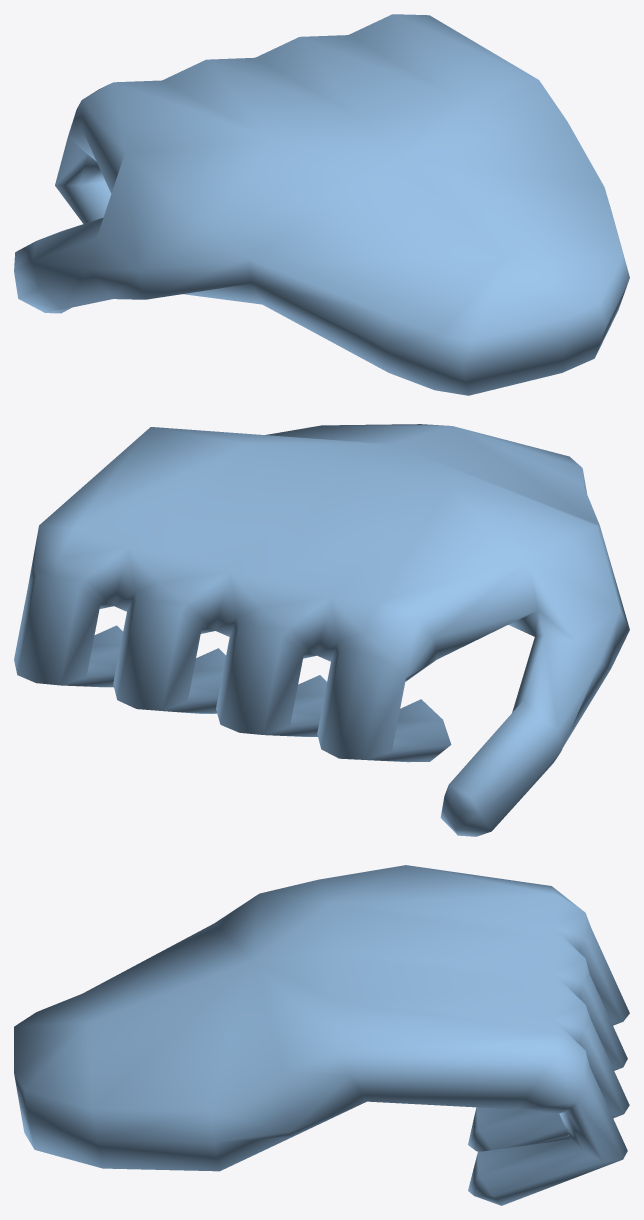
The model's file is Hand.fbx.
3 views of the same model, one above another, from view 1: azimuth 30°, elevation 25°; view 2: azimuth 150°, elevation 25°; view 3: azimuth 270°, elevation 25° (orthographic). The views are drawn at different scales.
Parts seen in each view (by area): view 1: hand; view 2: hand; view 3: hand.
Part boxes in pixels (<box>): hand: <box>14,14,629,395</box>; hand: <box>14,424,629,836</box>; hand: <box>14,865,629,1205</box>.
Size of the model in its own units: 24.8 by 11.5 by 28.91.
